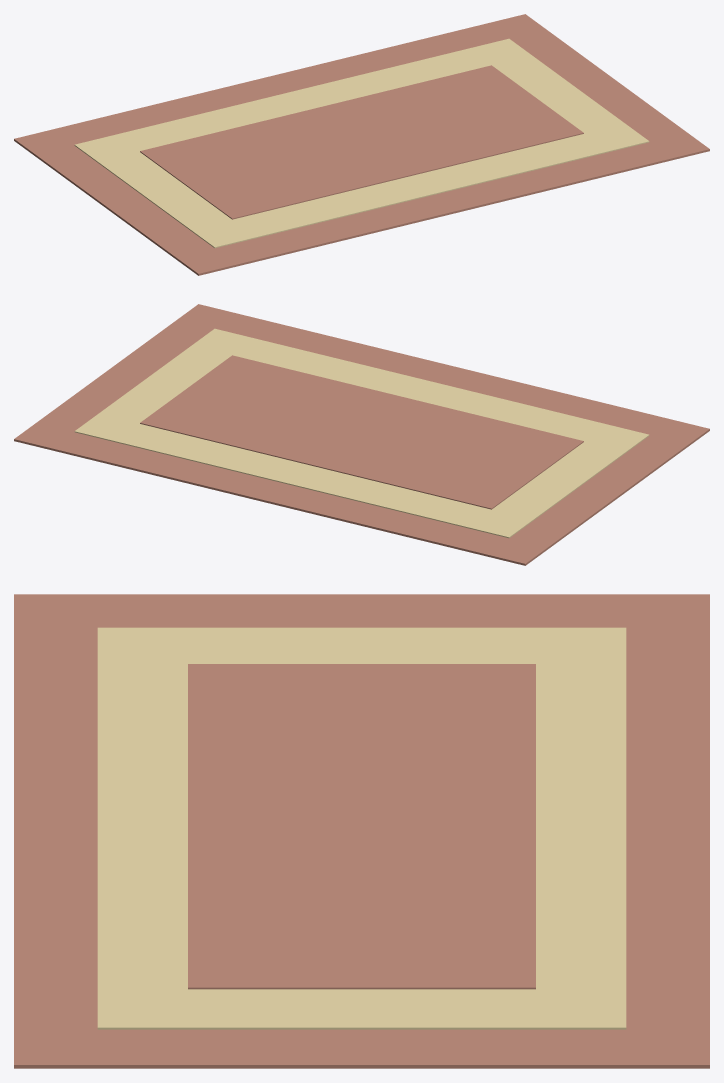
The model's file is rug_s.glb.
The picture shows the model from 3 angles, top to bottom: view 1: azimuth 30°, elevation 25°; view 2: azimuth 150°, elevation 25°; view 3: azimuth 270°, elevation 25°; orthographic projection. The views are drawn at different scales.
Visible parts, largest first — view 1: rug_s_rug, rug_s_hay; view 2: rug_s_rug, rug_s_hay; view 3: rug_s_rug, rug_s_hay.
Part boxes in pixels (left/top/right/bottom): rug_s_rug: left=14, top=14, right=709, bottom=275; rug_s_hay: left=74, top=38, right=649, bottom=248; rug_s_rug: left=14, top=304, right=709, bottom=565; rug_s_hay: left=74, top=328, right=649, bottom=538; rug_s_rug: left=14, top=594, right=709, bottom=1068; rug_s_hay: left=97, top=627, right=626, bottom=1029.
Bounding box in the file's own units: 1.6 × 0.012 × 1.
